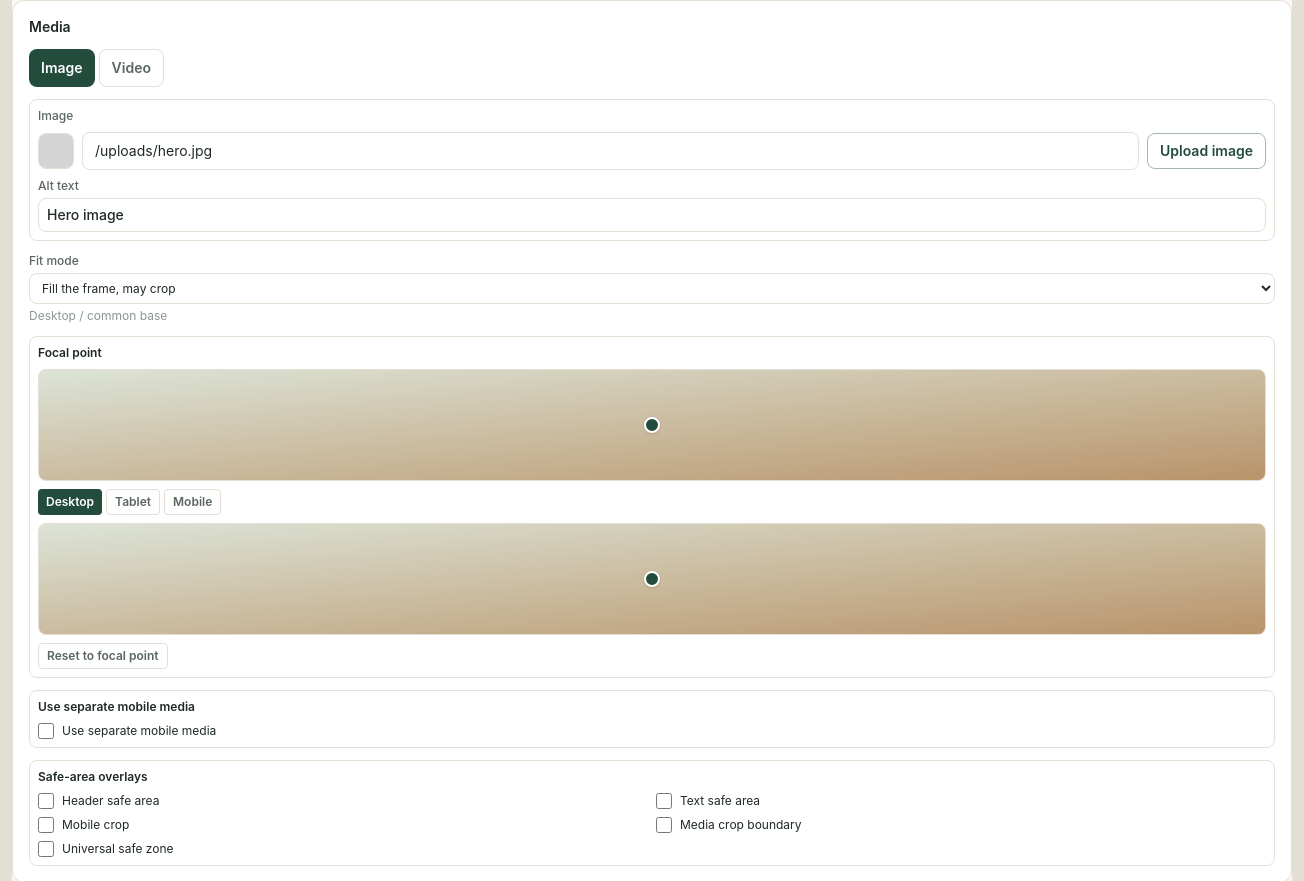
Test: HeroMediaSettings › hides mobile override controls while off and reveals them when enabled
Expected: the button "Mobile video" is not shown
Click the checkbox labelled "Use separate mobile media".
click(46, 731)  # box [38,723,54,739]
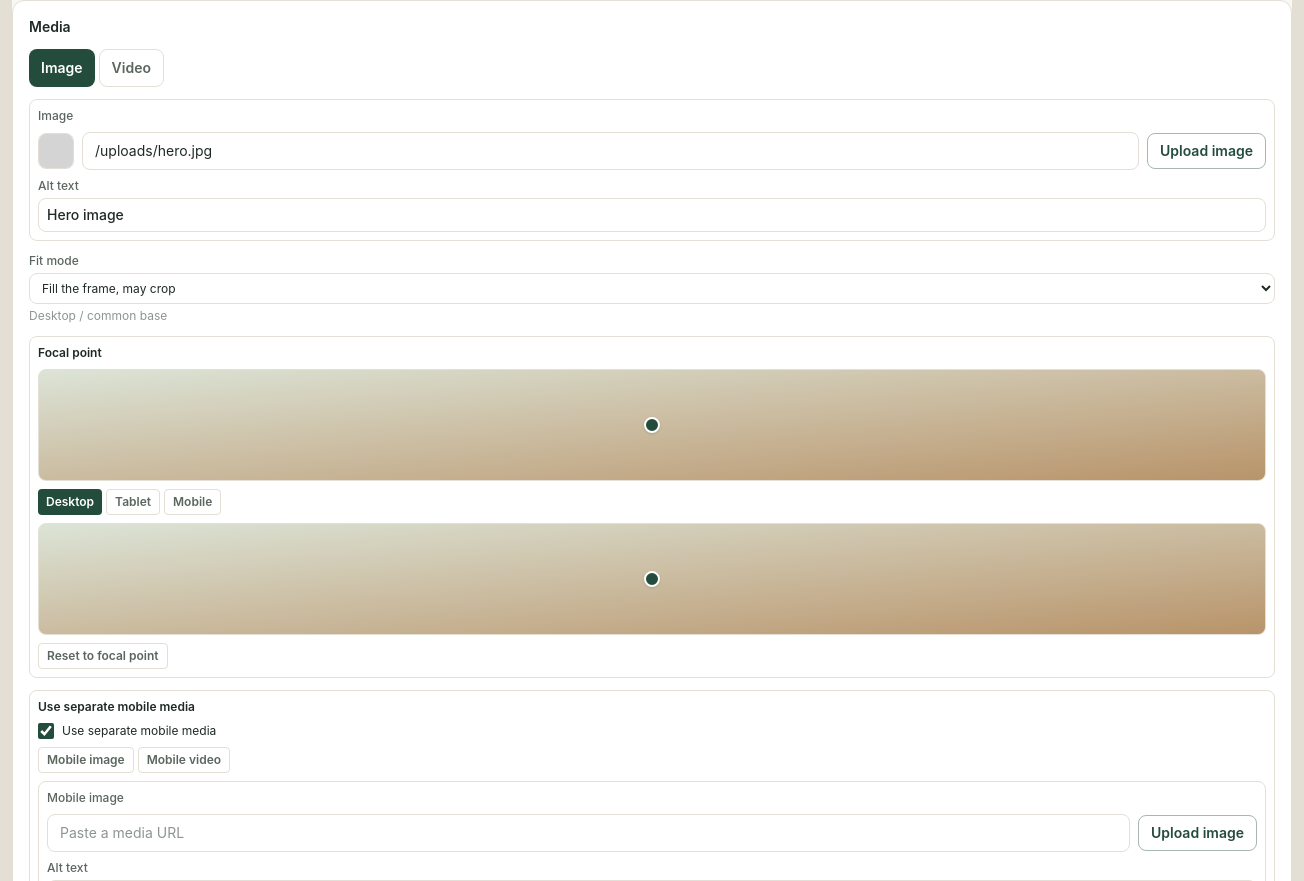
Result: the button "Mobile video" is shown at [138,747,230,773]
Result: the button "Mobile image" is shown at [38,747,134,773]
